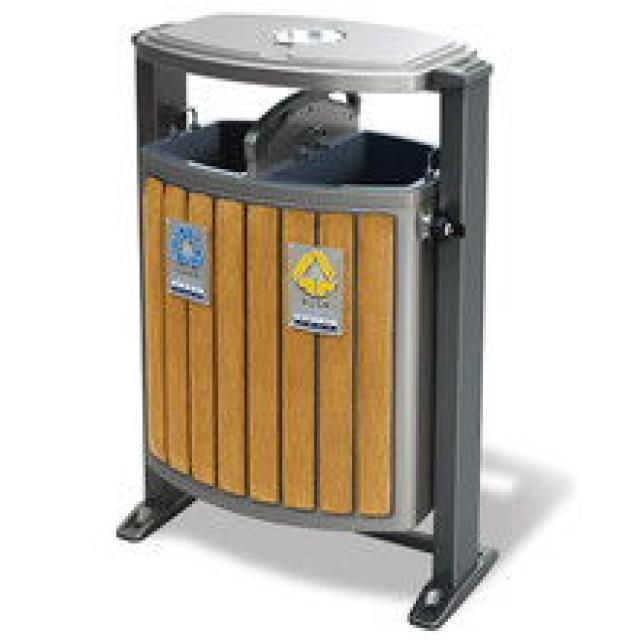garbage_bin: (114, 12, 498, 628)
